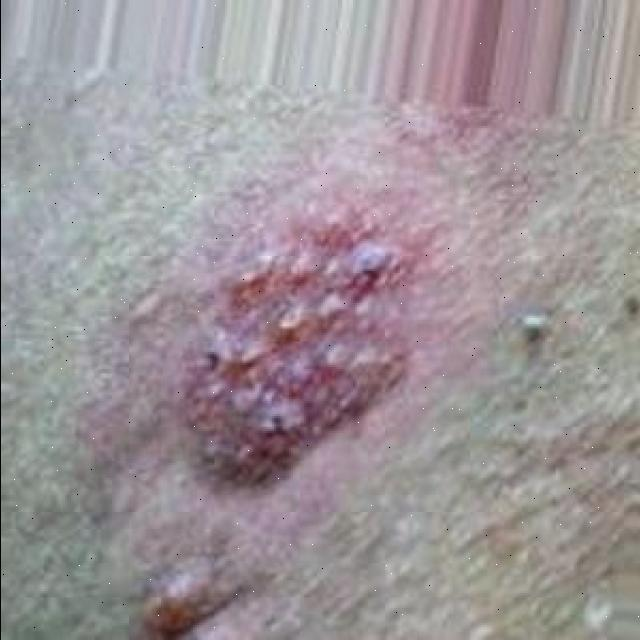Shingles: (184, 218, 416, 498)
